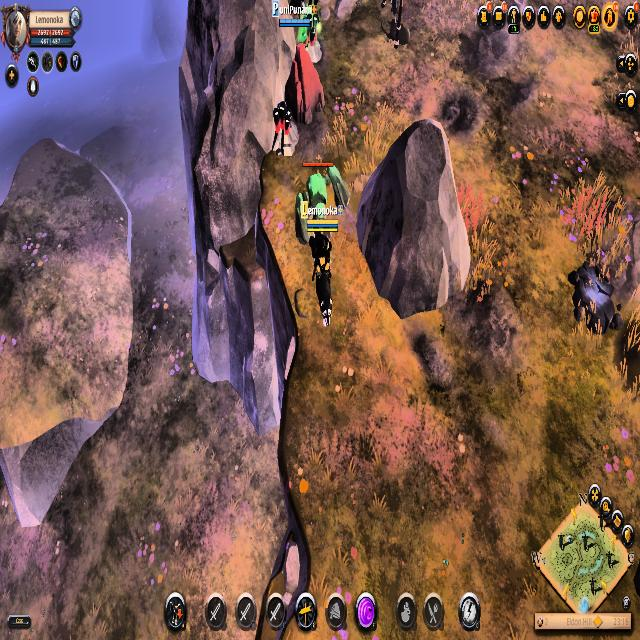ore tier 5: (269, 98, 300, 157)
rock tier 5: (285, 44, 325, 128)
